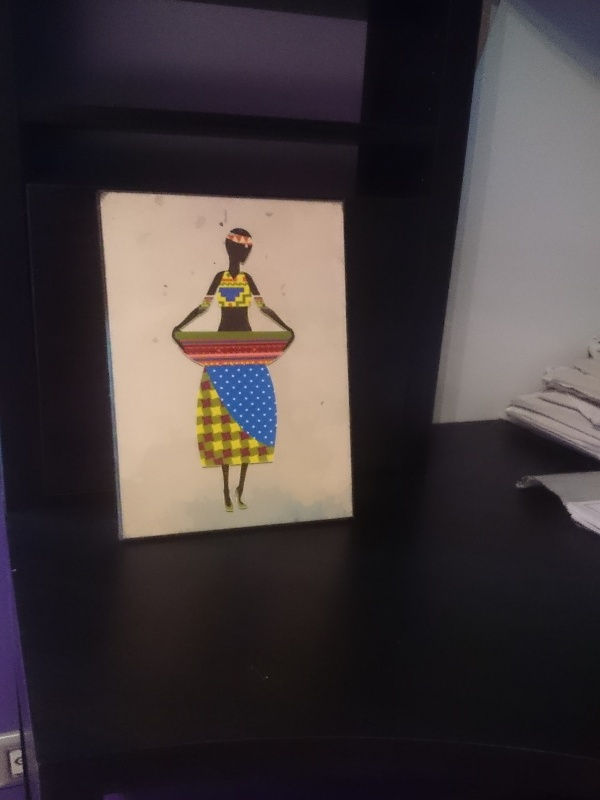my image: (104, 196, 350, 543)
